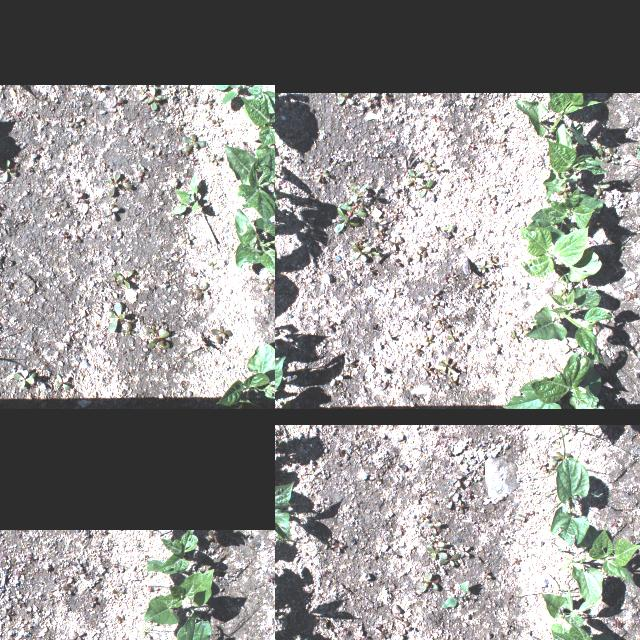crop: (525, 287, 615, 369), (502, 350, 606, 409), (569, 527, 640, 604), (514, 92, 602, 150), (520, 226, 600, 288), (219, 141, 275, 222), (526, 187, 602, 243), (142, 567, 214, 623), (544, 137, 608, 199), (215, 343, 275, 409), (238, 93, 275, 182), (540, 587, 598, 627), (148, 530, 198, 574), (176, 613, 245, 640), (275, 471, 297, 541), (547, 624, 627, 640)
weed: (550, 455, 590, 547), (233, 205, 275, 276), (214, 84, 275, 115), (334, 182, 368, 232), (172, 173, 198, 214), (142, 320, 170, 348), (441, 579, 469, 607), (352, 237, 380, 261), (140, 84, 163, 110), (13, 366, 35, 390), (107, 304, 125, 332), (112, 270, 136, 288), (1, 158, 19, 182), (59, 580, 79, 600), (592, 176, 610, 198), (68, 190, 94, 204), (414, 178, 434, 196), (424, 516, 442, 536), (418, 572, 438, 590), (191, 282, 209, 300), (591, 136, 609, 154), (211, 326, 231, 342), (417, 241, 433, 261), (108, 172, 120, 198), (184, 133, 206, 147), (437, 552, 459, 566), (406, 168, 424, 185), (438, 358, 457, 374), (56, 374, 72, 392), (0, 604, 14, 624), (428, 544, 448, 558), (104, 204, 120, 220), (314, 168, 330, 184), (560, 342, 578, 356), (69, 627, 87, 640), (275, 187, 285, 210), (556, 181, 570, 197), (110, 556, 124, 572), (447, 473, 463, 487), (444, 492, 458, 508), (336, 92, 354, 104), (552, 450, 570, 462), (258, 277, 275, 289), (329, 372, 343, 386), (435, 319, 449, 333), (68, 114, 84, 126), (424, 158, 436, 174), (476, 260, 492, 272), (398, 619, 410, 635), (427, 541, 445, 551), (374, 628, 391, 638), (606, 146, 618, 160), (264, 569, 275, 584), (118, 578, 128, 594), (454, 498, 464, 514), (446, 330, 459, 342), (516, 322, 528, 334), (632, 143, 640, 161), (556, 288, 568, 300), (87, 594, 99, 606), (458, 545, 470, 557), (420, 362, 430, 376), (366, 92, 376, 106), (386, 236, 396, 250), (624, 290, 638, 300), (344, 357, 356, 368), (428, 288, 439, 300), (511, 328, 519, 344), (355, 629, 366, 640), (182, 232, 192, 244), (487, 192, 497, 204), (114, 613, 126, 623), (323, 536, 331, 550), (373, 224, 382, 236), (443, 222, 453, 232), (418, 320, 428, 330), (391, 287, 401, 297), (390, 256, 400, 266), (340, 584, 350, 594), (633, 350, 640, 364), (208, 156, 220, 164), (424, 334, 432, 346), (475, 280, 487, 288), (337, 540, 345, 552), (482, 570, 494, 578), (449, 270, 457, 280), (328, 539, 336, 549), (269, 277, 275, 289), (365, 268, 375, 274), (498, 136, 504, 146), (500, 225, 506, 235), (611, 160, 619, 163)
